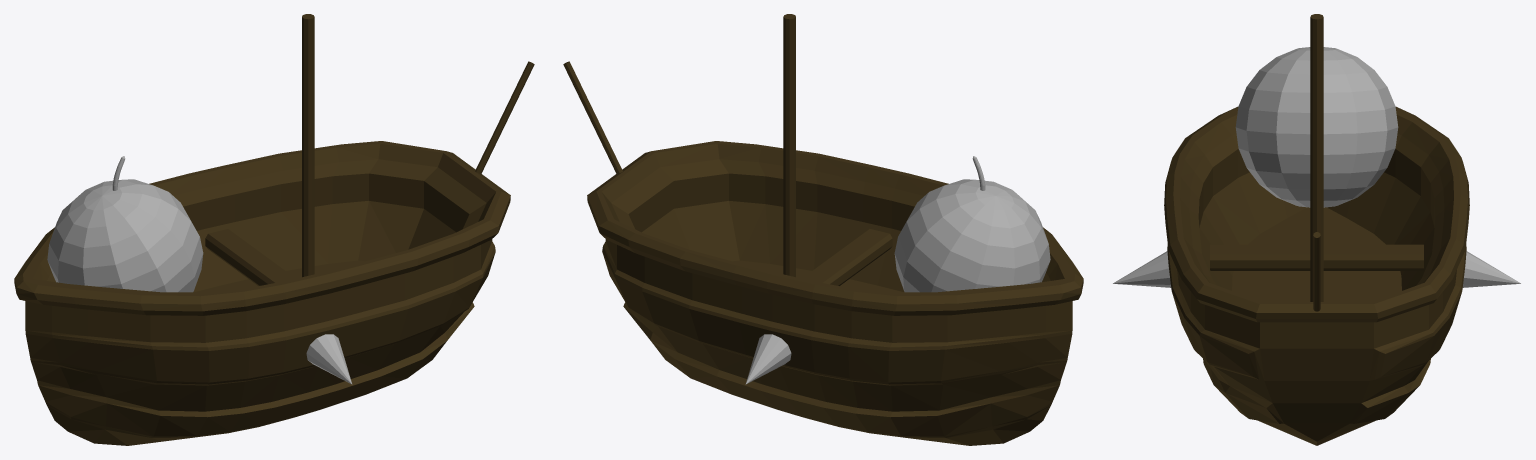
Rendered from ZombieEnemy (1).fbx.
3 views of the same model, side by side, from view 1: azimuth 30°, elevation 25°; view 2: azimuth 150°, elevation 25°; view 3: azimuth 270°, elevation 25° (orthographic). The views are drawn at different scales.
Visible parts, largest first — view 1: polySurface14, polySurface11; view 2: polySurface14, polySurface11; view 3: polySurface14, polySurface11.
Part boxes in pixels (x1=…): polySurface14: x1=14, y1=14, x2=534, y2=445; polySurface11: x1=47, y1=156, x2=352, y2=384; polySurface14: x1=563, y1=14, x2=1083, y2=445; polySurface11: x1=745, y1=156, x2=1050, y2=384; polySurface14: x1=1164, y1=14, x2=1469, y2=445; polySurface11: x1=1113, y1=47, x2=1520, y2=287.
Size of the model in its own units: 3.4 by 2.45 by 2.24.
